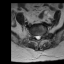CCS_normal: (37, 33, 39, 41)
LFS_stenosis: (41, 33, 43, 38)
LLS_normal: (39, 34, 41, 39)
RFS_stenosis: (32, 33, 35, 38)
RLS_normal: (35, 34, 37, 39)
